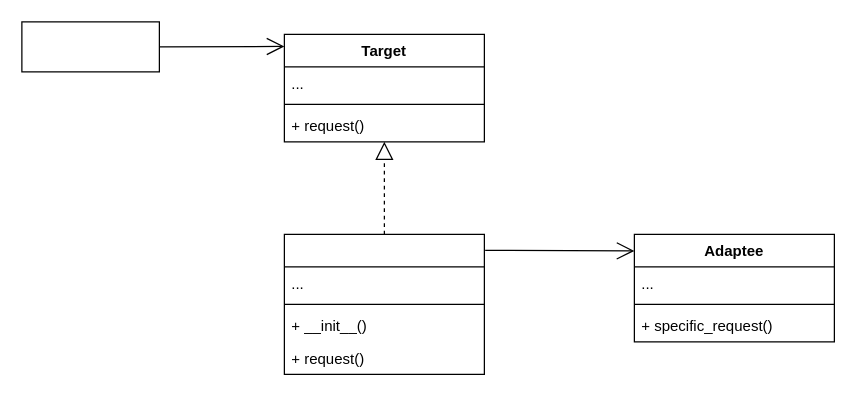
Image size: 856x400. Some labels were removed from this diagram. The box of each missing label's shape, as (x1, y1, x2, y2) in pixels:
Adapter: (283, 233, 484, 374)
Client: (21, 21, 159, 72)
